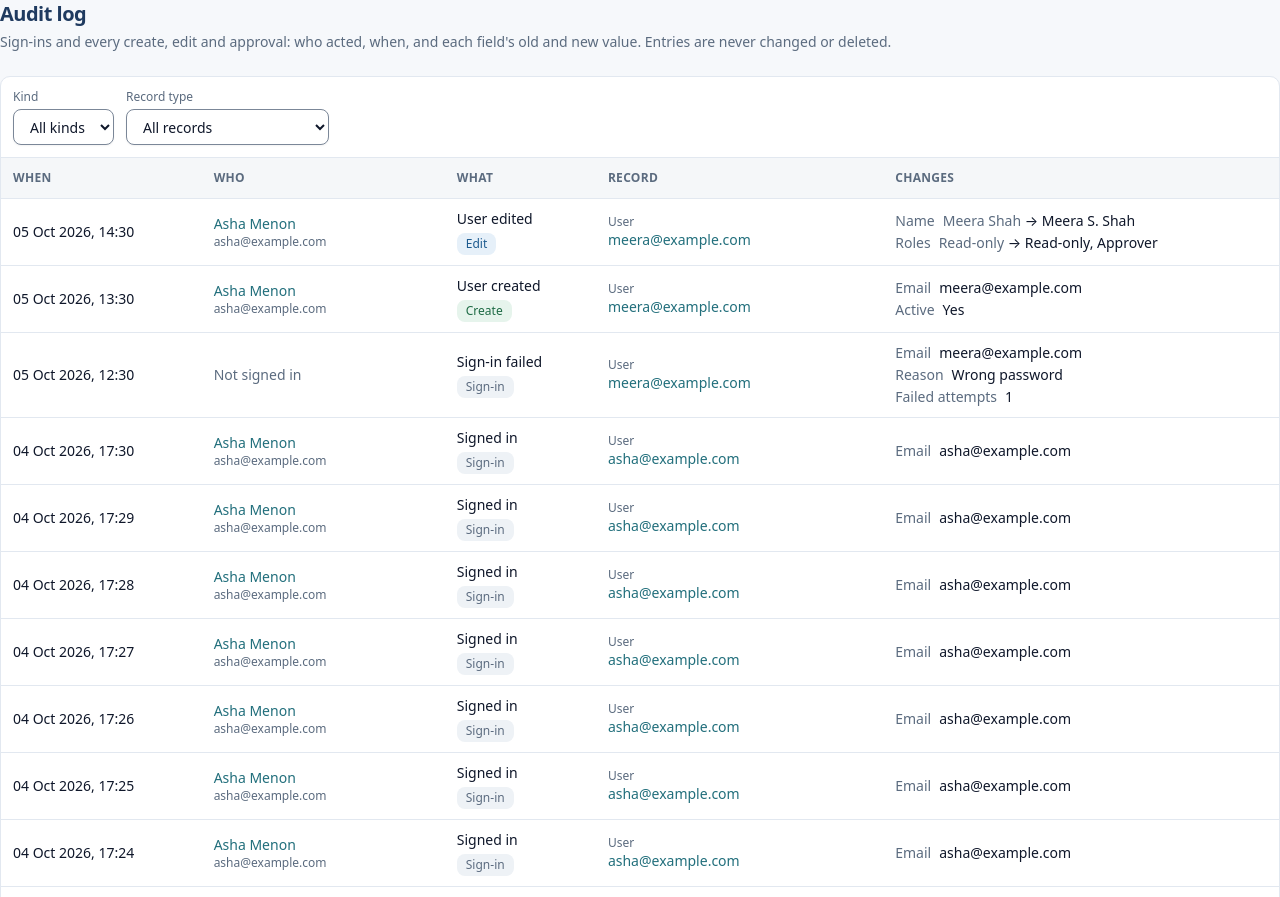
Scenario: AuditView › narrows to a person's entries and to a record's history, and clears each
Expected: the text "User edited" is shown, 457,208 -> 533,228
Click the button with aria-label "Show only entries by Asha Menon" at (255, 224), box 214,214 -> 296,234
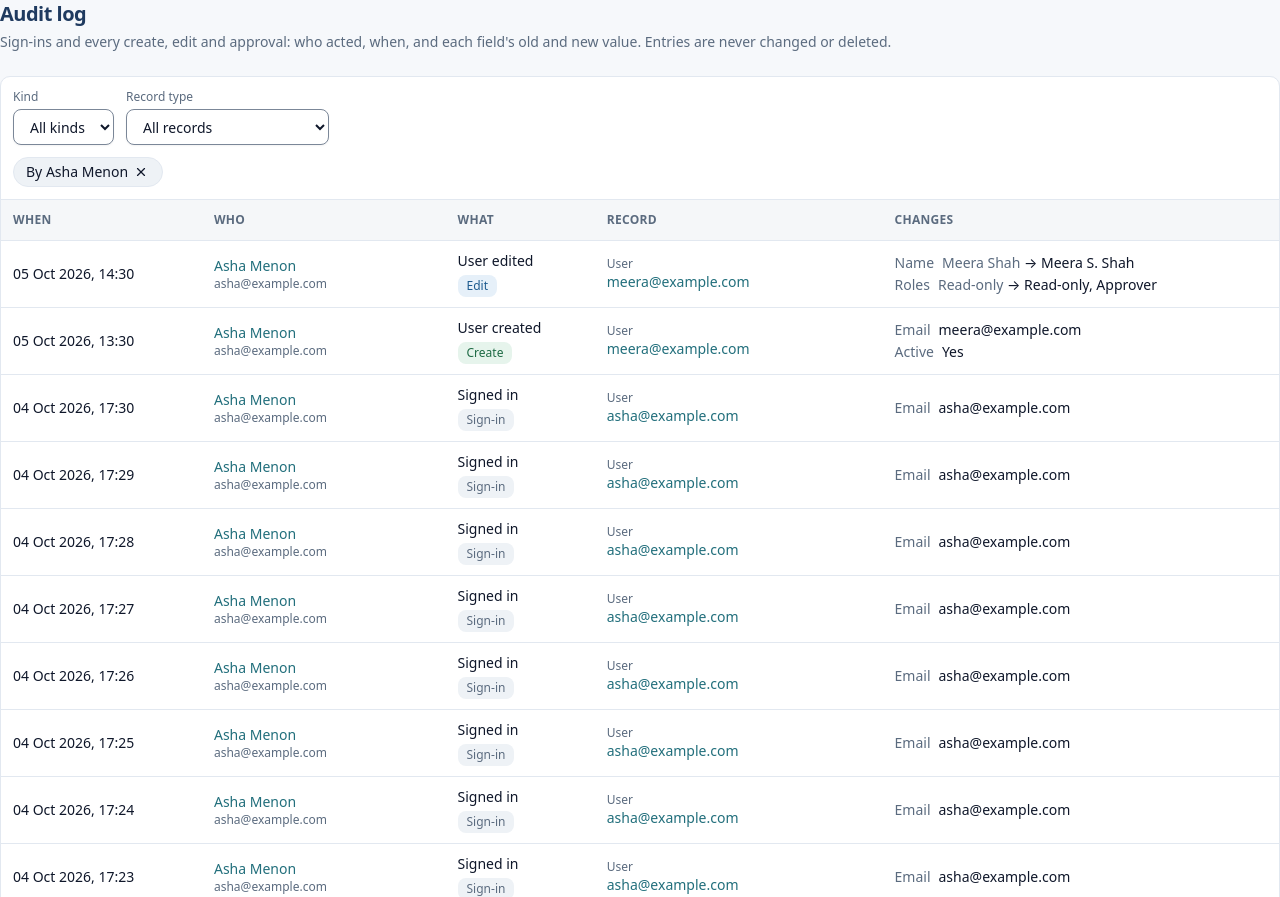
Click the button named "Remove filter: By Asha Menon" at (141, 172), box 132,163 -> 150,181
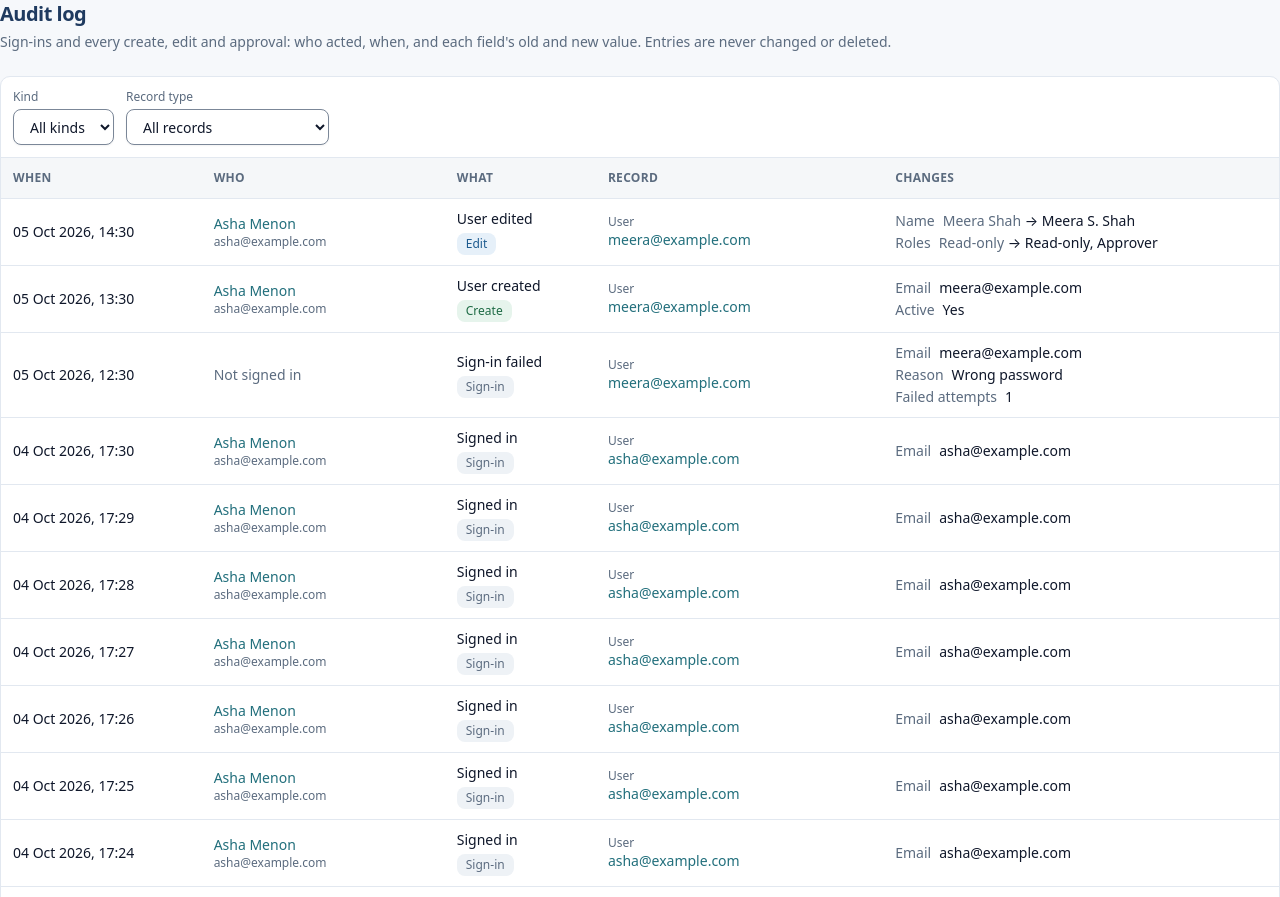
Expected: the text "User edited" is shown, 457,208 -> 533,228
Click the button with aria-label "Show the history of meera@example.com" at (679, 240), box 608,230 -> 751,250
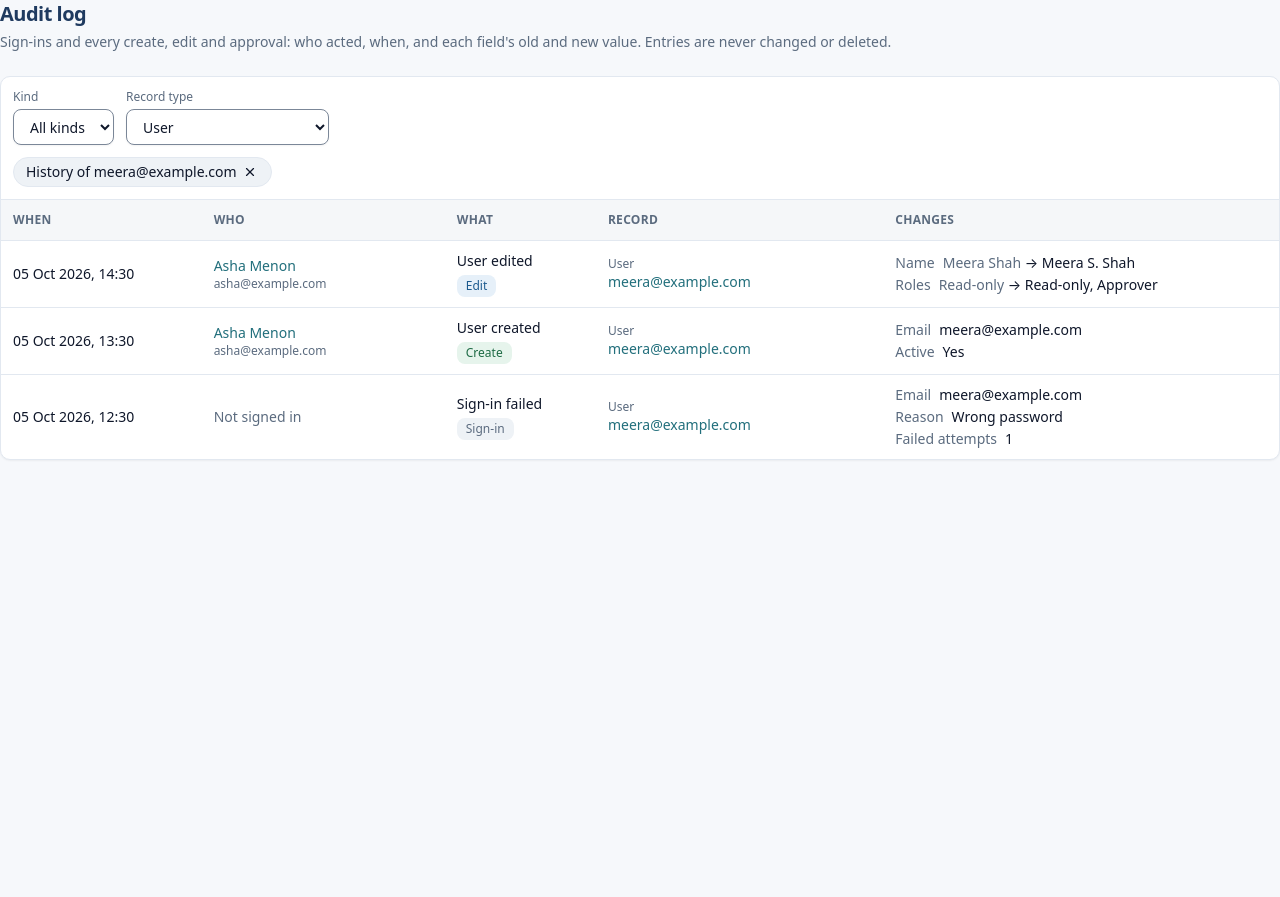
Now the button named "Remove filter: History of meera@example.com" is shown, box 241,163 -> 259,181
